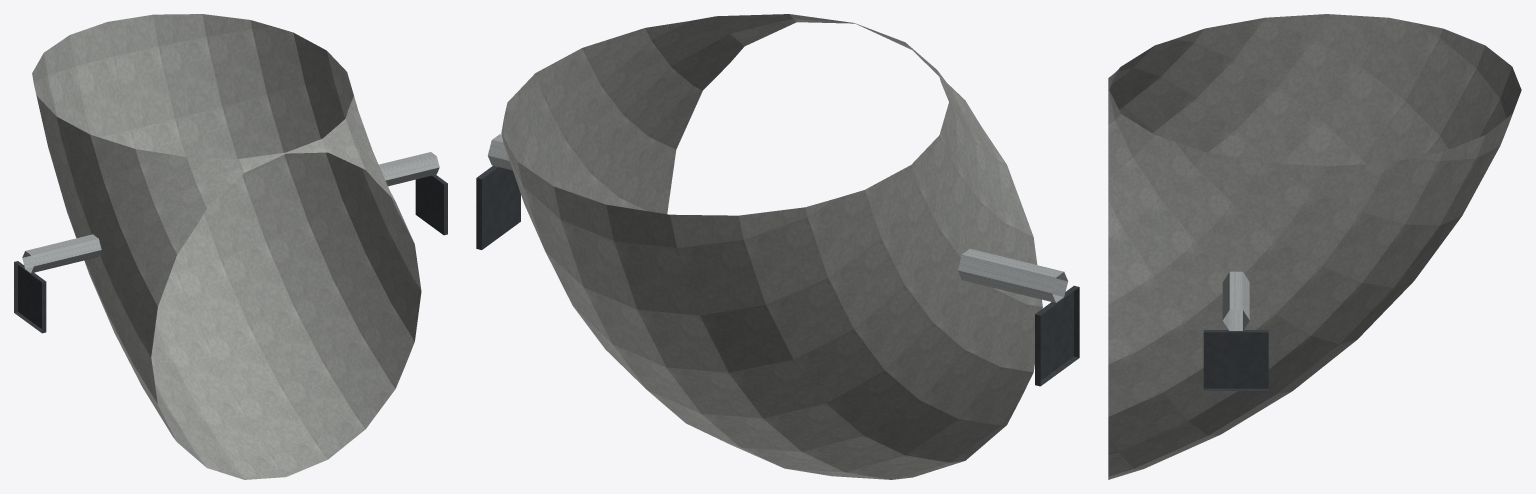
Rendered from cell_12.obj.
3 views of the same model, side by side, from view 1: azimuth 30°, elevation 25°; view 2: azimuth 150°, elevation 25°; view 3: azimuth 270°, elevation 25° (orthographic). The views are drawn at different scales.
Size of the model in its own units: 1 by 0.7635 by 0.7635.
